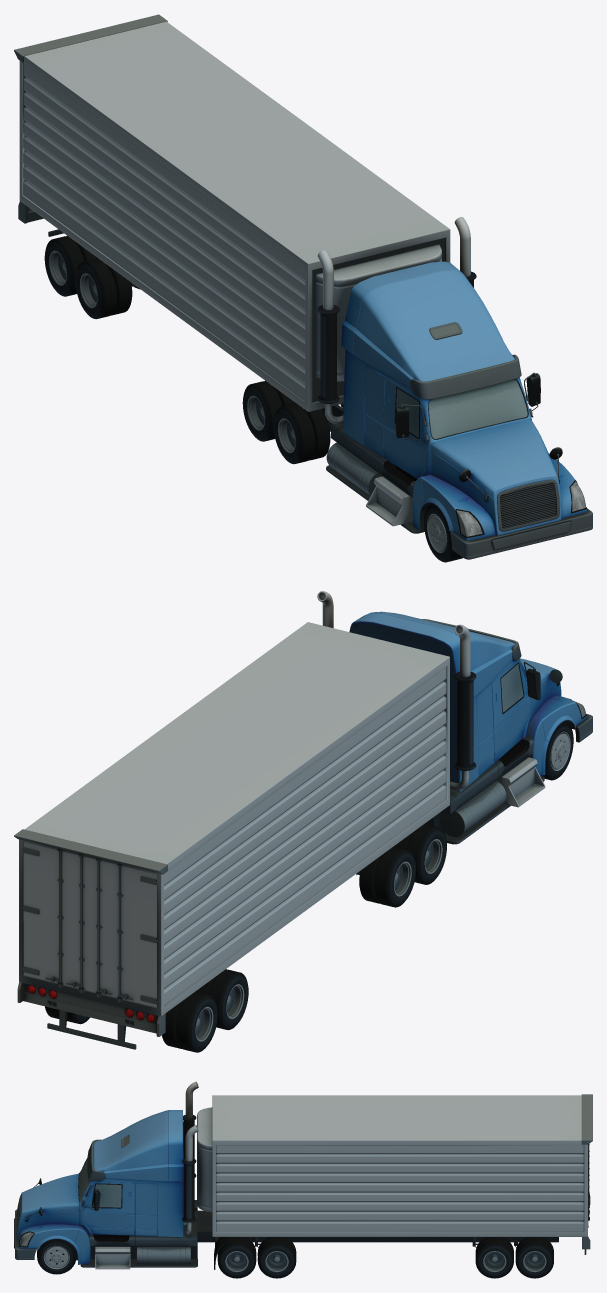
3 views of the same model, one above another, from view 1: azimuth 30°, elevation 25°; view 2: azimuth 150°, elevation 25°; view 3: azimuth 270°, elevation 25° (orthographic). The views are drawn at different scales.
Parts seen in each view (by area): view 1: semi_truck.1; view 2: semi_truck.1; view 3: semi_truck.1.
Part boxes in pixels (left/top/right/bottom): semi_truck.1: left=14, top=14, right=592, bottom=562; semi_truck.1: left=14, top=591, right=592, bottom=1052; semi_truck.1: left=14, top=1081, right=592, bottom=1278.
Size of the model in its own units: 2.03 by 2.91 by 10.03.
Materials: 1 (1 with a texture image).
